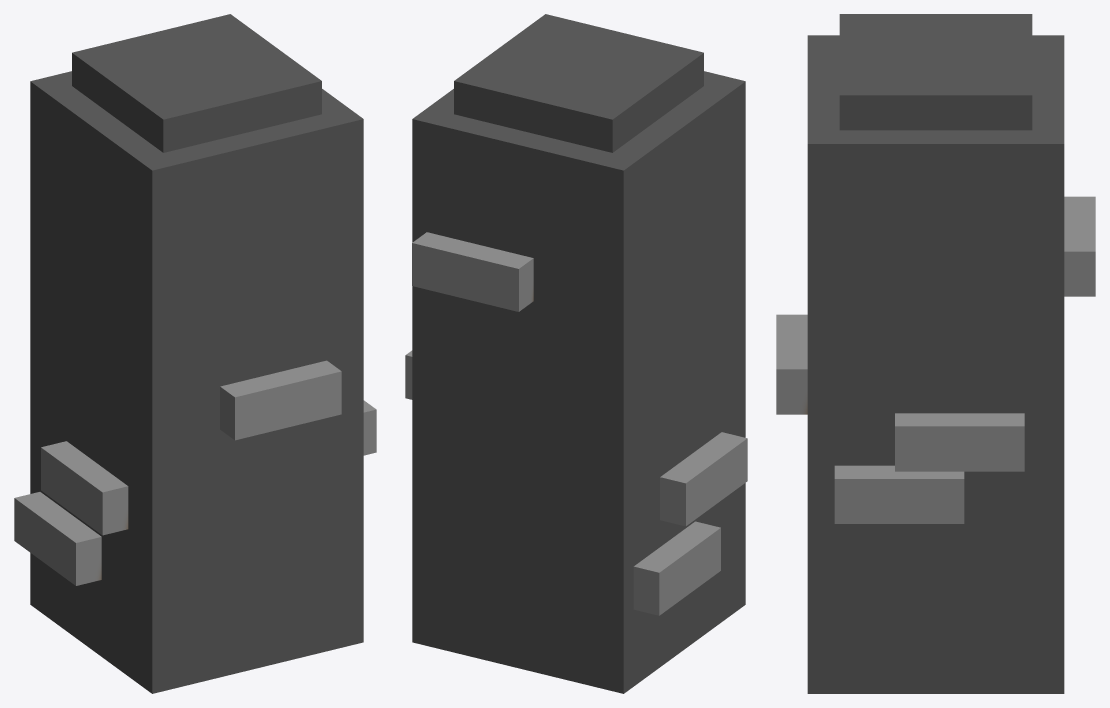
The model's file is Fence_Pole.fbx.
The picture shows the model from 3 angles, left to right: view 1: azimuth 30°, elevation 25°; view 2: azimuth 150°, elevation 25°; view 3: azimuth 270°, elevation 25°; orthographic projection. The views are drawn at different scales.
Parts seen in each view (by area): view 1: Fence_Pole; view 2: Fence_Pole; view 3: Fence_Pole.
Boxes of the visible parts, left/top/right/bottom form: Fence_Pole: left=14, top=14, right=376, bottom=693; Fence_Pole: left=405, top=14, right=747, bottom=693; Fence_Pole: left=776, top=14, right=1095, bottom=693.
Bounding box in the file's own units: 0.5024 × 1.02 × 0.5024.
